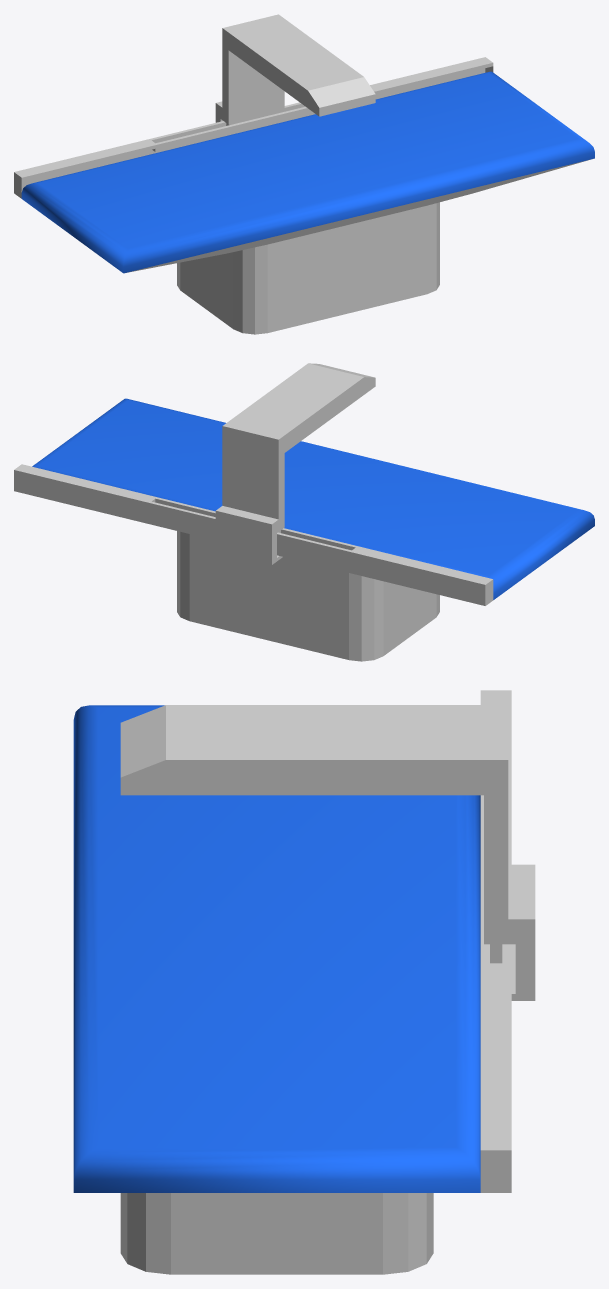
3 renders of one model, top to bottom at view 1: azimuth 30°, elevation 25°; view 2: azimuth 150°, elevation 25°; view 3: azimuth 270°, elevation 25°, orthographic. The views are drawn at different scales.
Parts seen in each view (by area): view 1: RX-30; view 2: RX-30; view 3: RX-30.
Boxes of the visible parts, <box> form: RX-30: <box>14,14,594,334</box>; RX-30: <box>14,363,594,661</box>; RX-30: <box>73,690,535,1274</box>.
Bounding box in the file's own units: 278 × 125 × 118.
